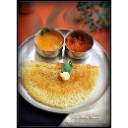dosa: (21, 58, 106, 107)
